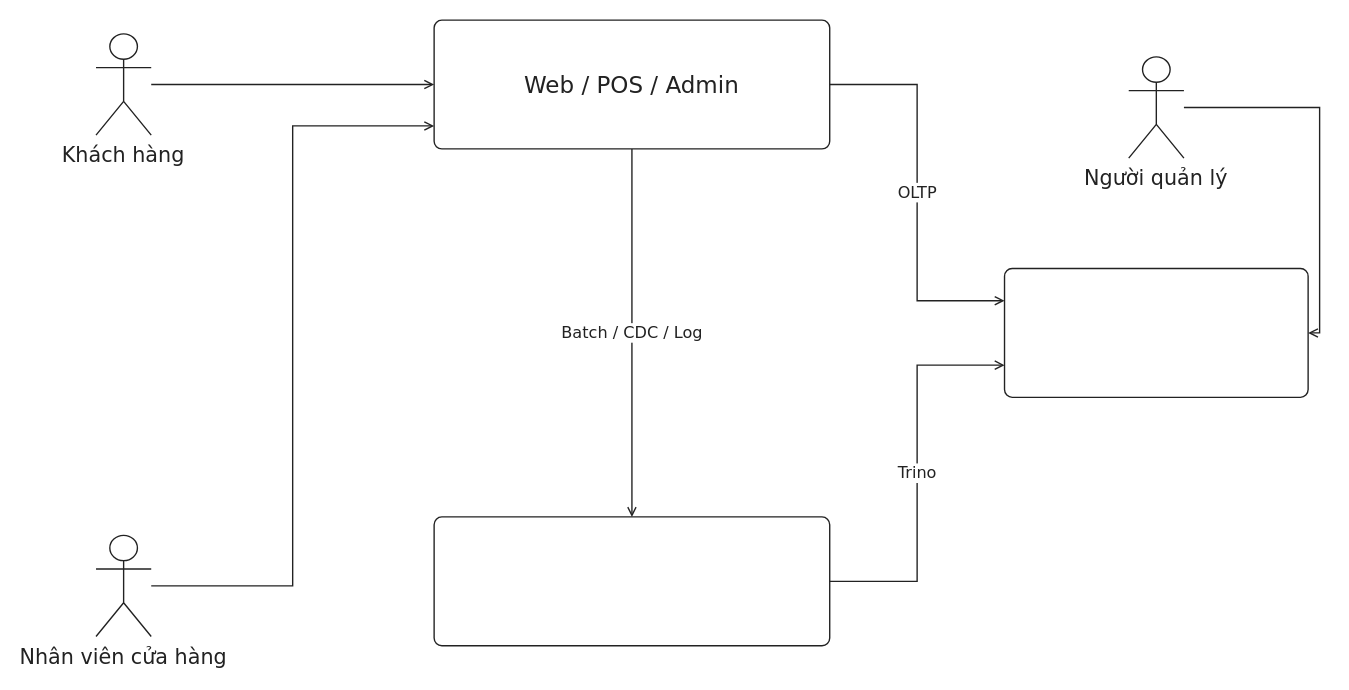
Some shapes in this 1349 by 690 pixel diagram are drawn without their labels. The box of each missing label's shape, as (x1, y1, x2, y2) in pixels:
BI Hub: (1003, 267, 1308, 397)
Data Lakehouse: (433, 516, 830, 646)
